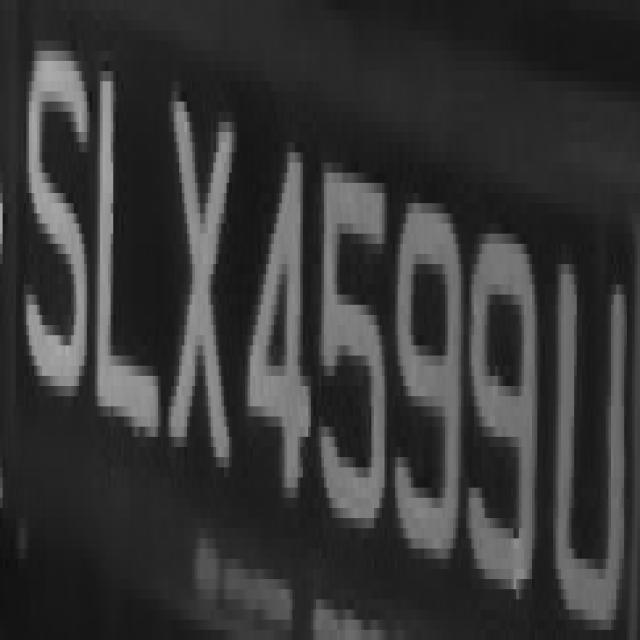4: (237, 91, 311, 548)
5: (316, 132, 392, 579)
9: (469, 183, 542, 599), (398, 152, 469, 579)
L: (87, 20, 166, 468)
S: (24, 11, 87, 407)
U: (553, 223, 635, 640)
X: (172, 61, 234, 498)
